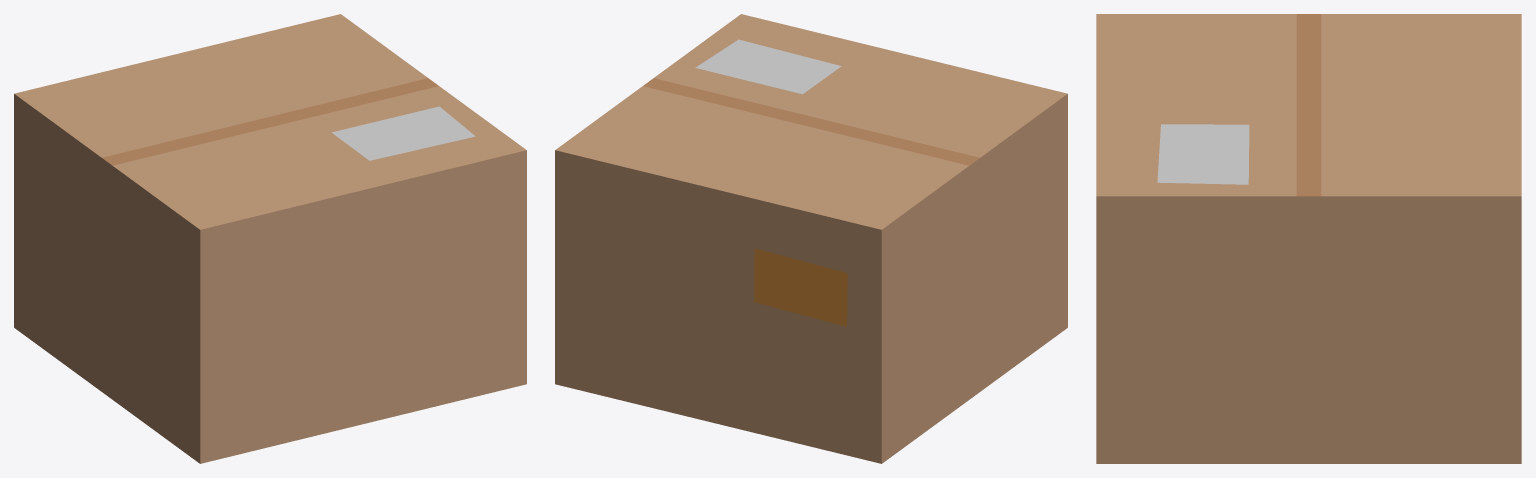
The model's file is SM_Props_Box_02.fbx.
3 views of the same model, side by side, from view 1: azimuth 30°, elevation 25°; view 2: azimuth 150°, elevation 25°; view 3: azimuth 270°, elevation 25° (orthographic). The views are drawn at different scales.
Visible parts, largest first — view 1: SM_Props_Box_02; view 2: SM_Props_Box_02; view 3: SM_Props_Box_02.
Part boxes in pixels (x1,y1,x2,y2): SM_Props_Box_02: [14, 14, 526, 463]; SM_Props_Box_02: [555, 14, 1067, 463]; SM_Props_Box_02: [1096, 14, 1521, 463].
Bounding box in the file's own units: 0.4772 × 0.3268 × 0.4708.
